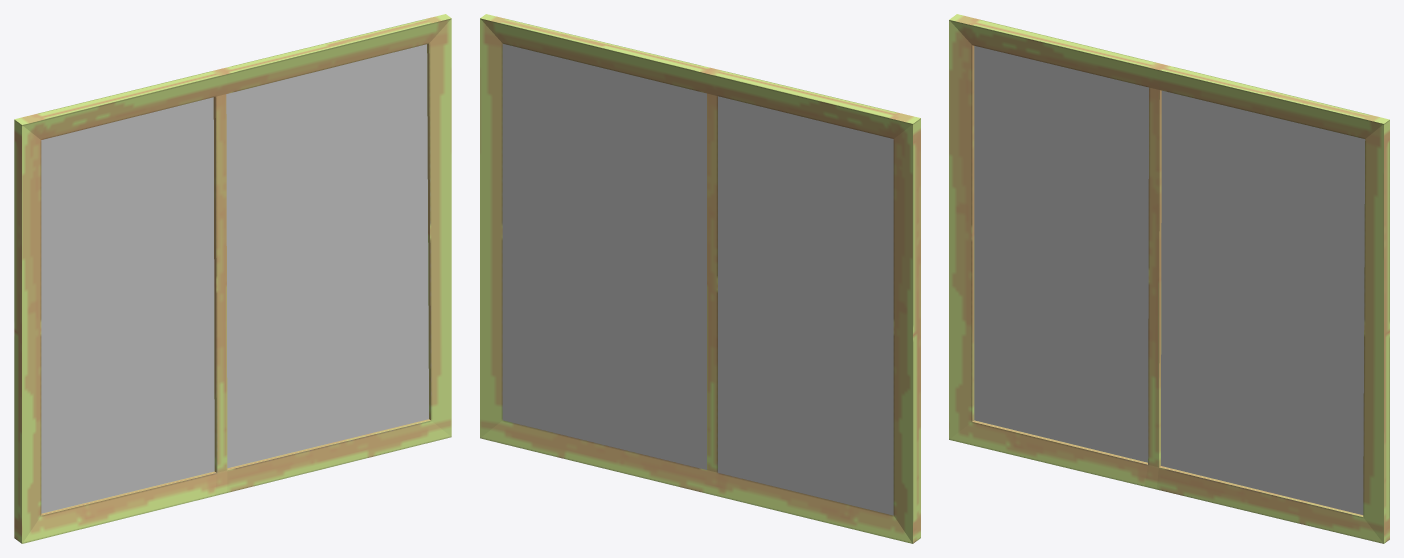
File: entrance_door_doctors_office.fbx
3 views of the same model, side by side, from view 1: azimuth 30°, elevation 25°; view 2: azimuth 150°, elevation 25°; view 3: azimuth 330°, elevation 25° (orthographic).
Visible parts, largest first — view 1: door; view 2: door; view 3: door.
Boxes of the visible parts, x1,y1,x2,y2 form: door: (14, 14, 451, 543); door: (480, 14, 920, 543); door: (949, 14, 1389, 543).
Size of the model in its own units: 223 by 207 by 7.15.
